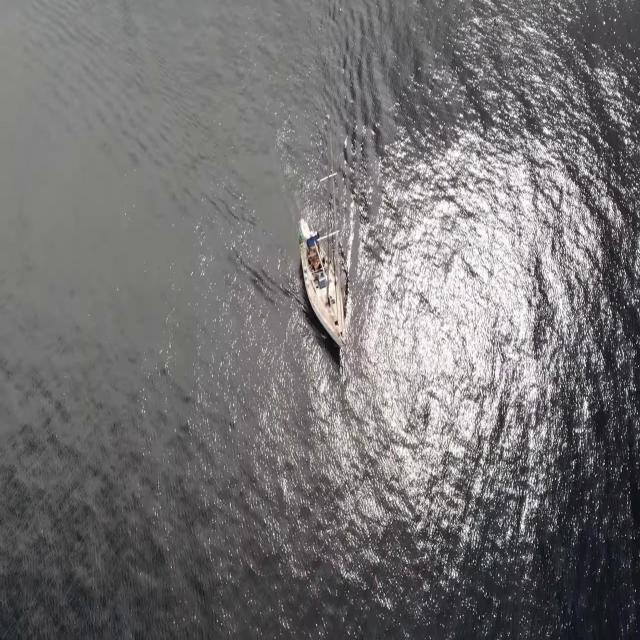sailboat: (298, 215, 350, 353)
